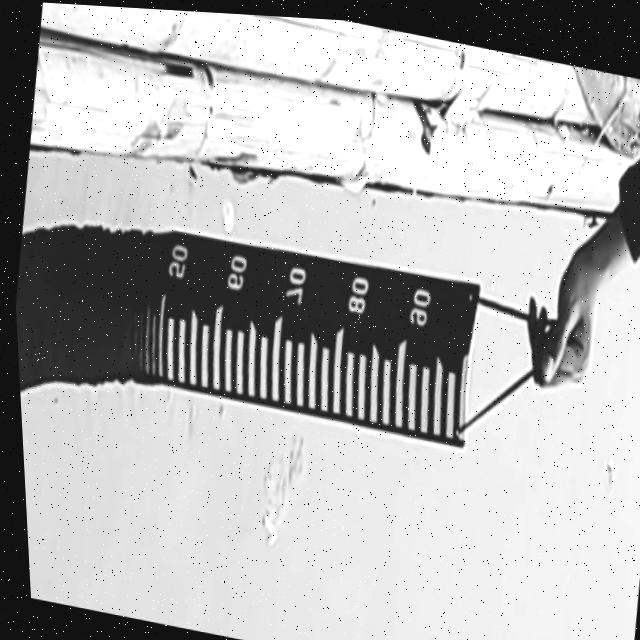water-meter: (118, 189, 506, 480)
